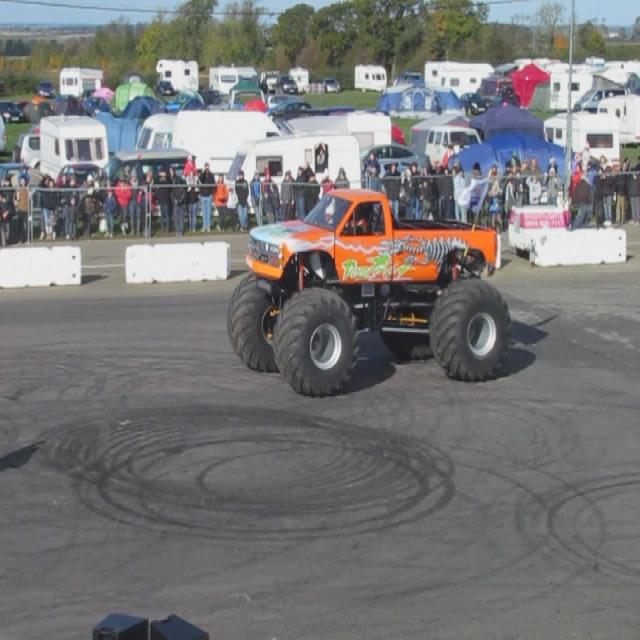Vehicle: (227, 187, 510, 394), (27, 68, 624, 123), (226, 133, 361, 209), (171, 108, 302, 181), (36, 115, 113, 188), (101, 148, 194, 177), (425, 126, 481, 165), (360, 144, 430, 175), (0, 162, 30, 222), (156, 59, 200, 97), (135, 112, 177, 150), (59, 68, 104, 99), (260, 95, 312, 120), (56, 163, 101, 188), (12, 134, 41, 170), (355, 64, 388, 93), (82, 96, 112, 116), (288, 66, 308, 94), (4, 104, 23, 122), (323, 78, 341, 93), (282, 79, 298, 94)
